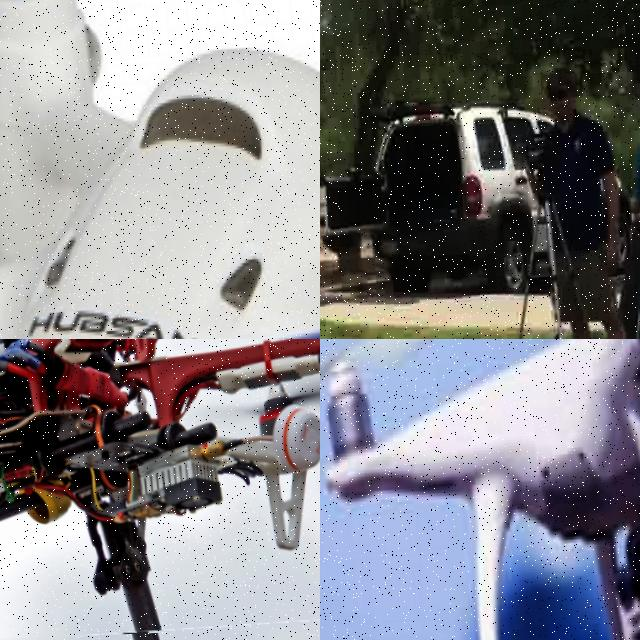drone: (0, 0, 320, 339), (0, 339, 320, 640), (320, 339, 640, 640)
